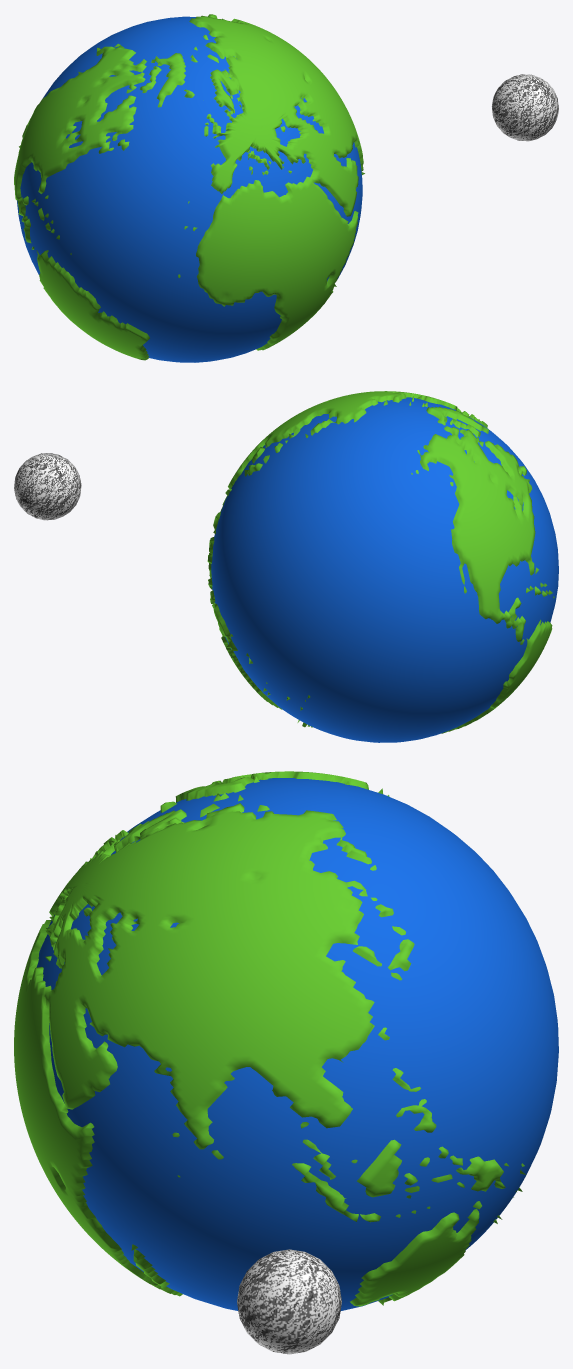
File: sample.glb
The picture shows the model from 3 angles, top to bottom: view 1: azimuth 30°, elevation 25°; view 2: azimuth 150°, elevation 25°; view 3: azimuth 270°, elevation 25°; orthographic projection. The views are drawn at different scales.
Parts seen in each view (by area): view 1: earth, Icosphere; view 2: earth, Icosphere; view 3: earth, Icosphere.
Boxes of the visible parts, x1,y1,x2,y2 form: earth: (14, 14, 364, 362); Icosphere: (491, 74, 558, 141); earth: (207, 391, 558, 742); Icosphere: (14, 453, 81, 520); earth: (14, 771, 558, 1310); Icosphere: (237, 1249, 341, 1354).
Size of the model in its own units: 3.54 by 2.09 by 2.07.
3 materials, 1 textured.
